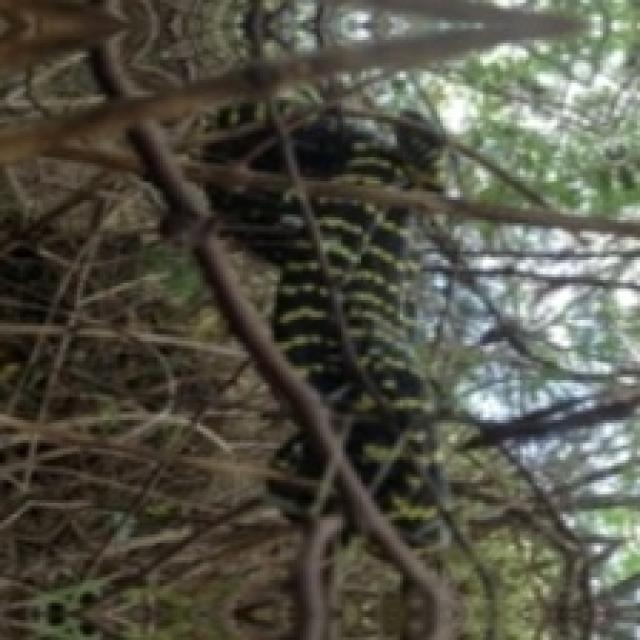mangrove cat snake: (275, 112, 452, 521)
